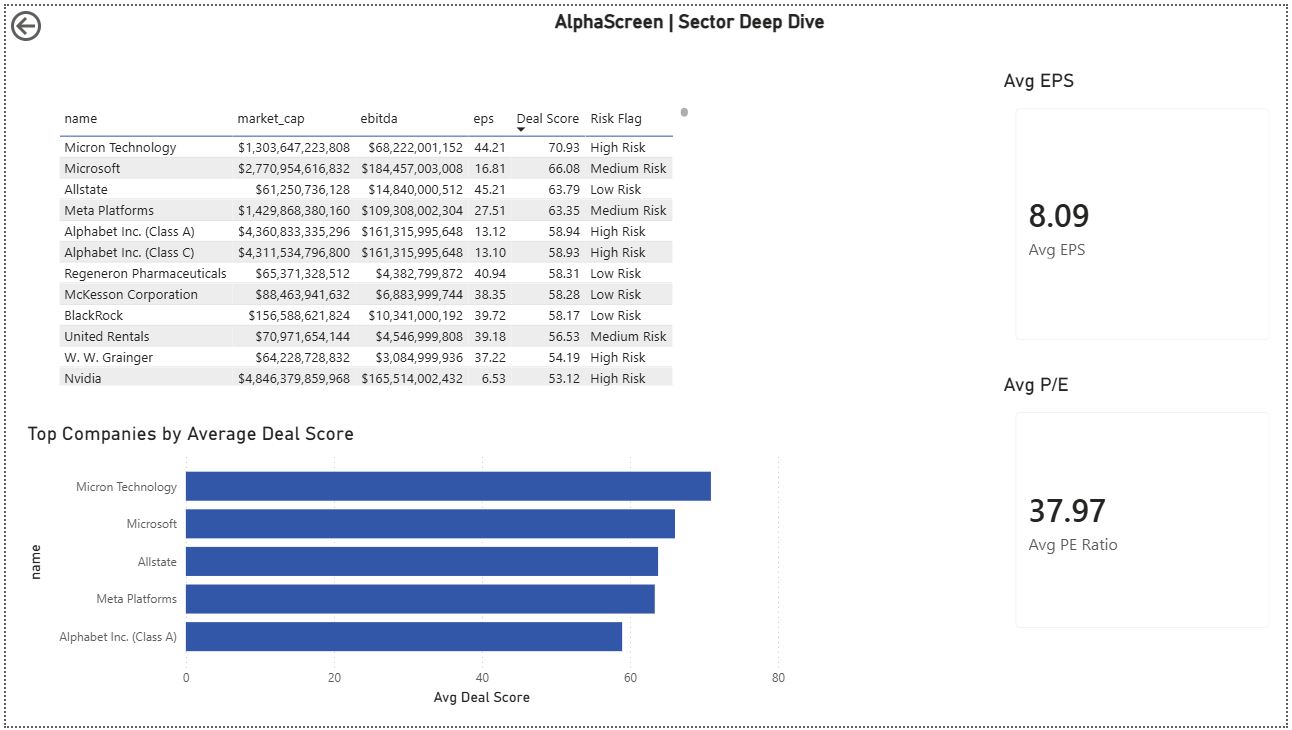

What the dashboard file says about the page in this screenshot:
{"tool":"powerbi","page":{"name":"Sector Deep Dive","canvas":[1280,720],"ordinal":1},"visuals":[{"type":"actionButton","box":[0,0,100,40],"z":0},{"type":"tableEx","fields":{"Values":["companies.name","companies.market_cap","companies.ebitda","companies.eps","companies.Deal Score","companies.Risk Flag"]},"box":[48,96,640,288],"z":1000},{"type":"clusteredBarChart","title":"Top Companies by Average Deal Score","fields":{"Category":["companies.name"],"Y":["companies.Avg Deal Score"]},"box":[16,416,768,288],"z":2000},{"type":"cardVisual","title":"Avg EPS","fields":{"Data":["companies.Avg EPS"]},"box":[992,64,288,288],"z":3000},{"type":"cardVisual","title":"Avg P/E","fields":{"Data":["companies.Avg PE Ratio"]},"box":[992,368,288,272],"z":4000},{"type":"textbox","box":[544,0,288,64],"z":5000}]}

Visuals, with their boxes in screenshot pixels (x1, y1, x2, y2), scaled from the page's 1280x720 canvas onto the 1292x730 screenshot:
actionButton: left=0, top=0, right=101, bottom=41
tableEx - companies.name x companies.market_cap: left=48, top=97, right=694, bottom=389
"Top Companies by Average Deal Score" clusteredBarChart: left=16, top=422, right=791, bottom=714
"Avg EPS" cardVisual: left=1001, top=65, right=1291, bottom=357
"Avg P/E" cardVisual: left=1001, top=373, right=1291, bottom=649
textbox: left=549, top=0, right=840, bottom=65
